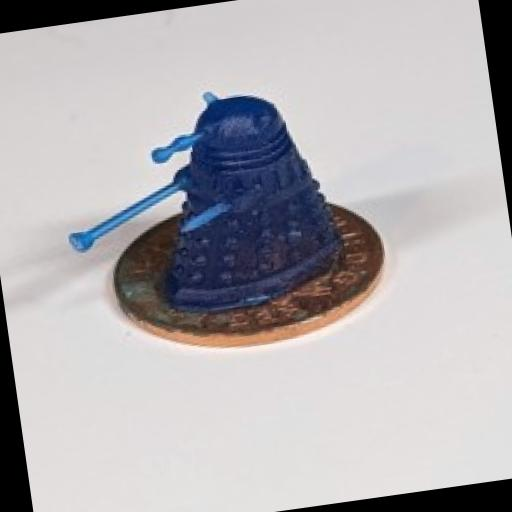dalek: (43, 72, 351, 325)
